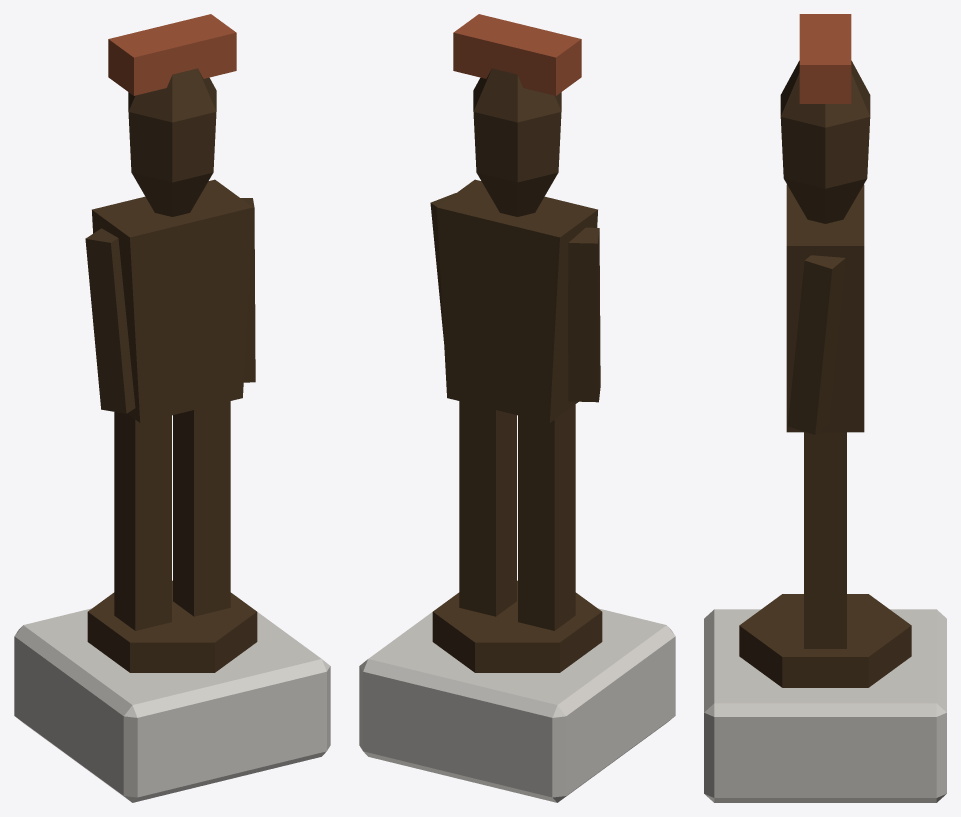
Rendered from sculpture-43.glb.
3 renders of one model, left to right at view 1: azimuth 30°, elevation 25°; view 2: azimuth 150°, elevation 25°; view 3: azimuth 270°, elevation 25°, orthographic.
Parts seen in each view (by area): view 1: sculpture_43; view 2: sculpture_43; view 3: sculpture_43.
Boxes of the visible parts, x1=… form: sculpture_43: x1=14, y1=14, x2=330, y2=802; sculpture_43: x1=359, y1=14, x2=675, y2=802; sculpture_43: x1=704, y1=14, x2=946, y2=802.
Bounding box in the file's own units: 0.1424 × 0.4634 × 0.1424.
